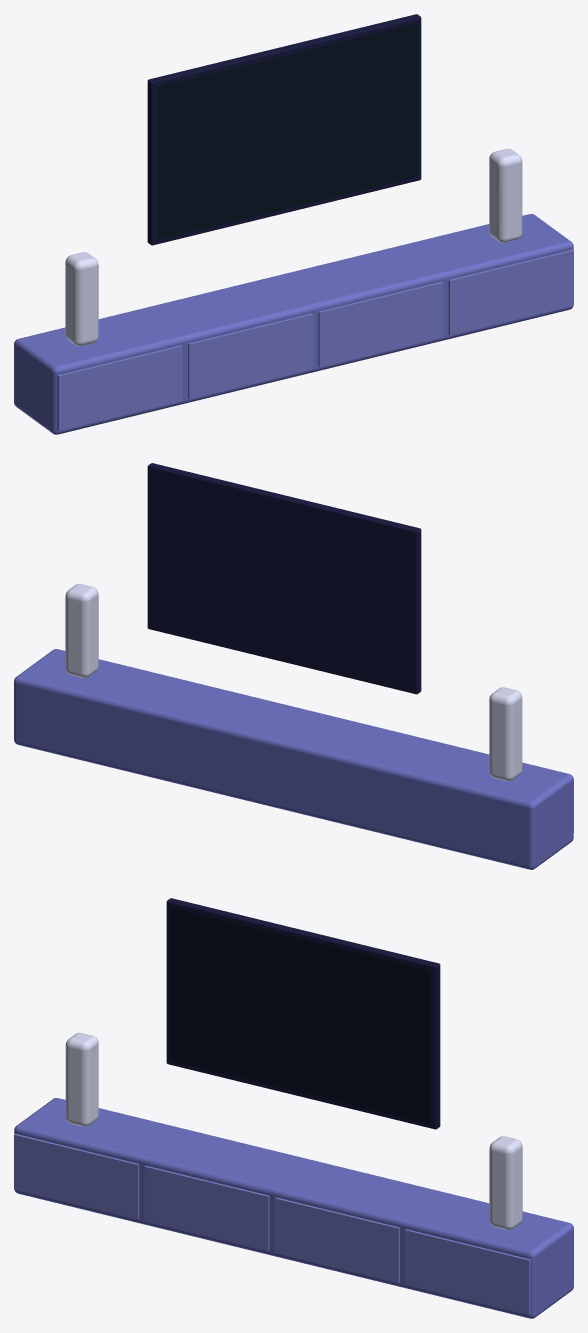
File: mediaWall.glb
The picture shows the model from 3 angles, top to bottom: view 1: azimuth 30°, elevation 25°; view 2: azimuth 150°, elevation 25°; view 3: azimuth 330°, elevation 25°; orthographic projection.
Parts seen in each view (by area): view 1: screen, cabinet, mediaWall, tv, speakerR, speakerL; view 2: cabinet, tv, speakerL, speakerR; view 3: screen, cabinet, mediaWall, tv, speakerL, speakerR.
Part boxes in pixels (<box>): screen: <box>157,23,417,240</box>; cabinet: <box>14,214,573,434</box>; mediaWall: <box>57,249,573,430</box>; tv: <box>147,14,421,245</box>; speakerR: <box>489,148,522,242</box>; speakerL: <box>65,252,98,346</box>; cabinet: <box>14,649,573,869</box>; tv: <box>147,463,421,694</box>; speakerL: <box>489,687,522,781</box>; speakerR: <box>65,584,98,677</box>; screen: <box>170,907,430,1124</box>; cabinet: <box>14,1098,573,1318</box>; mediaWall: <box>14,1133,530,1314</box>; tv: <box>166,898,440,1129</box>; speakerL: <box>65,1032,98,1126</box>; speakerR: <box>489,1136,522,1230</box>.
Bounding box in the file's own units: 3.2 × 1.78 × 0.465.
